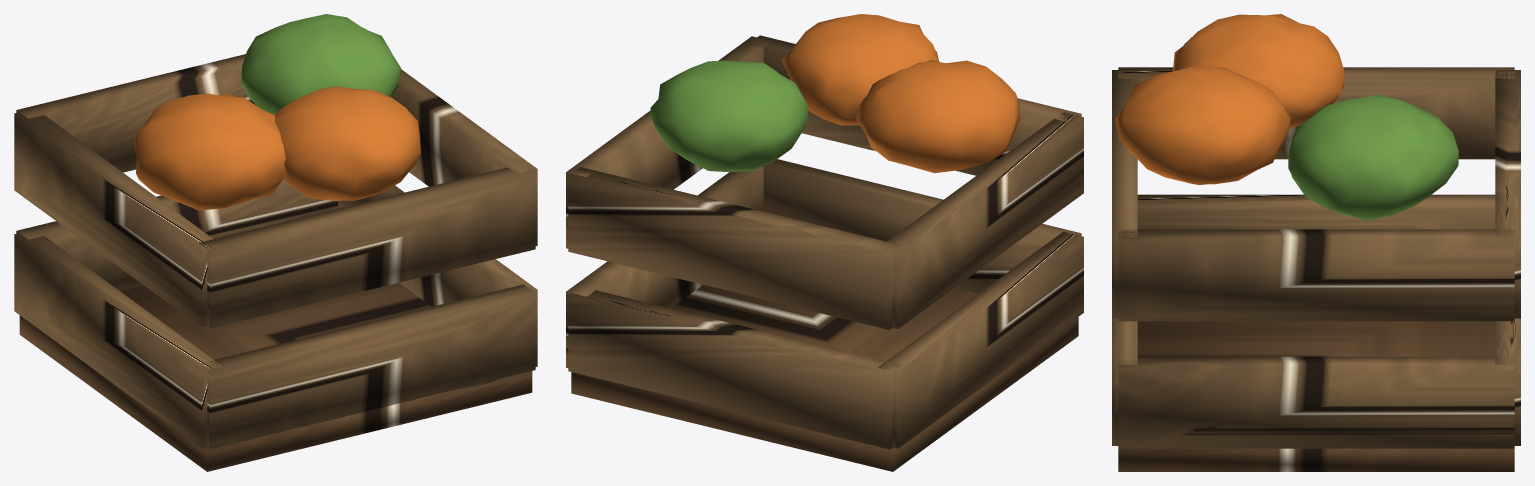
The model's file is crate.glb.
3 views of the same model, side by side, from view 1: azimuth 30°, elevation 25°; view 2: azimuth 150°, elevation 25°; view 3: azimuth 270°, elevation 25° (orthographic). The views are drawn at different scales.
Visible parts, largest first — view 1: geometry_0, geometry_2, geometry_1; view 2: geometry_0, geometry_2, geometry_1; view 3: geometry_0, geometry_2, geometry_1.
Boxes of the visible parts, box(x1,y1,x2,y2) form: geometry_0: box(14, 54, 537, 449); geometry_2: box(134, 14, 420, 210); geometry_1: box(19, 282, 532, 471); geometry_0: box(566, 35, 1083, 449); geometry_2: box(650, 14, 1020, 173); geometry_1: box(571, 285, 1078, 471); geometry_0: box(1112, 67, 1520, 448); geometry_2: box(1115, 14, 1458, 220); geometry_1: box(1118, 321, 1514, 471).
Bounding box in the file's own units: 0.64 × 0.547 × 0.64.
3 materials, 2 textured.
